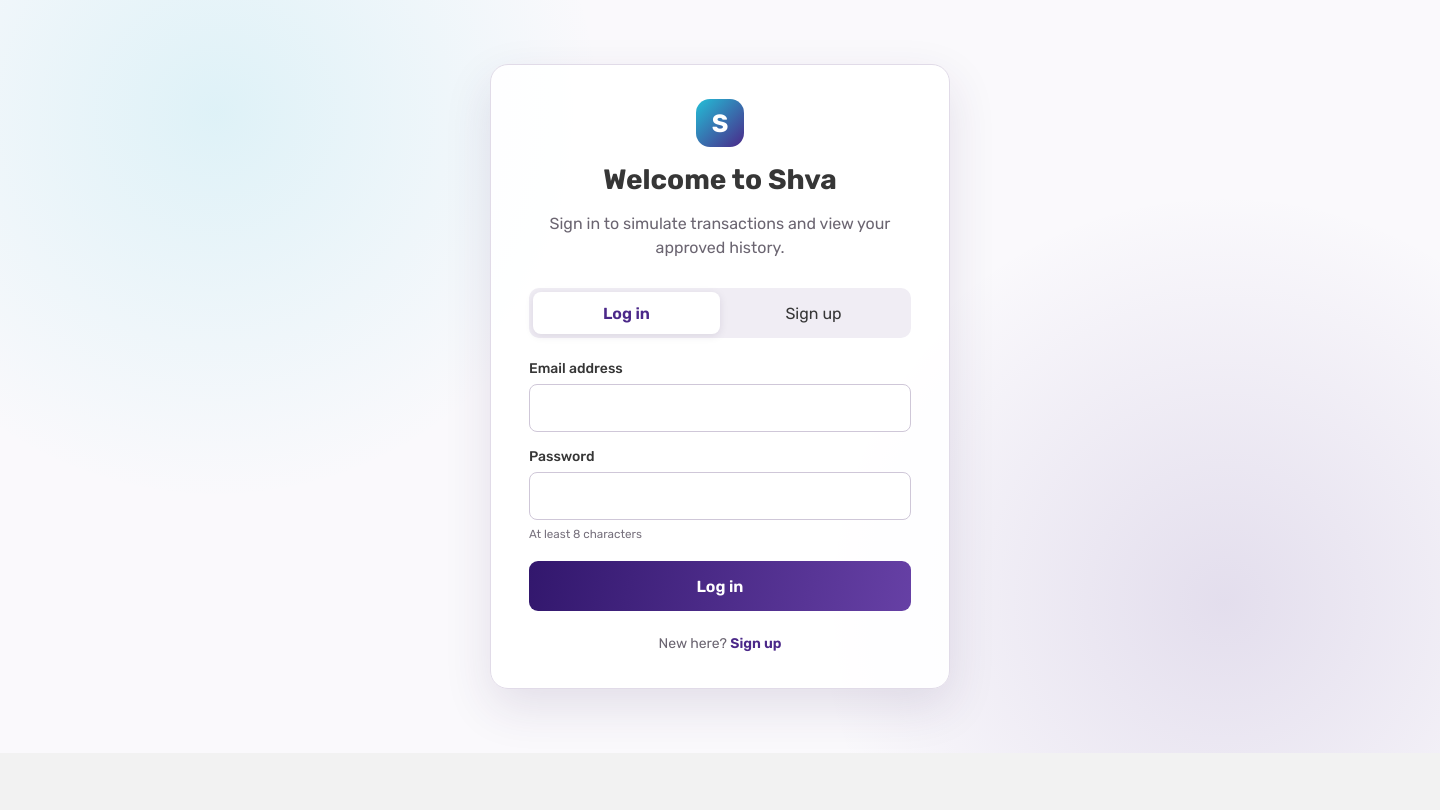
it: AuthScreen › switches between localized login and signup forms
The image size is (1440, 810).
Expected: the field labelled "Full name" is not shown
Click the tab "Sign up".
click(814, 313)  # box [720,292,907,334]
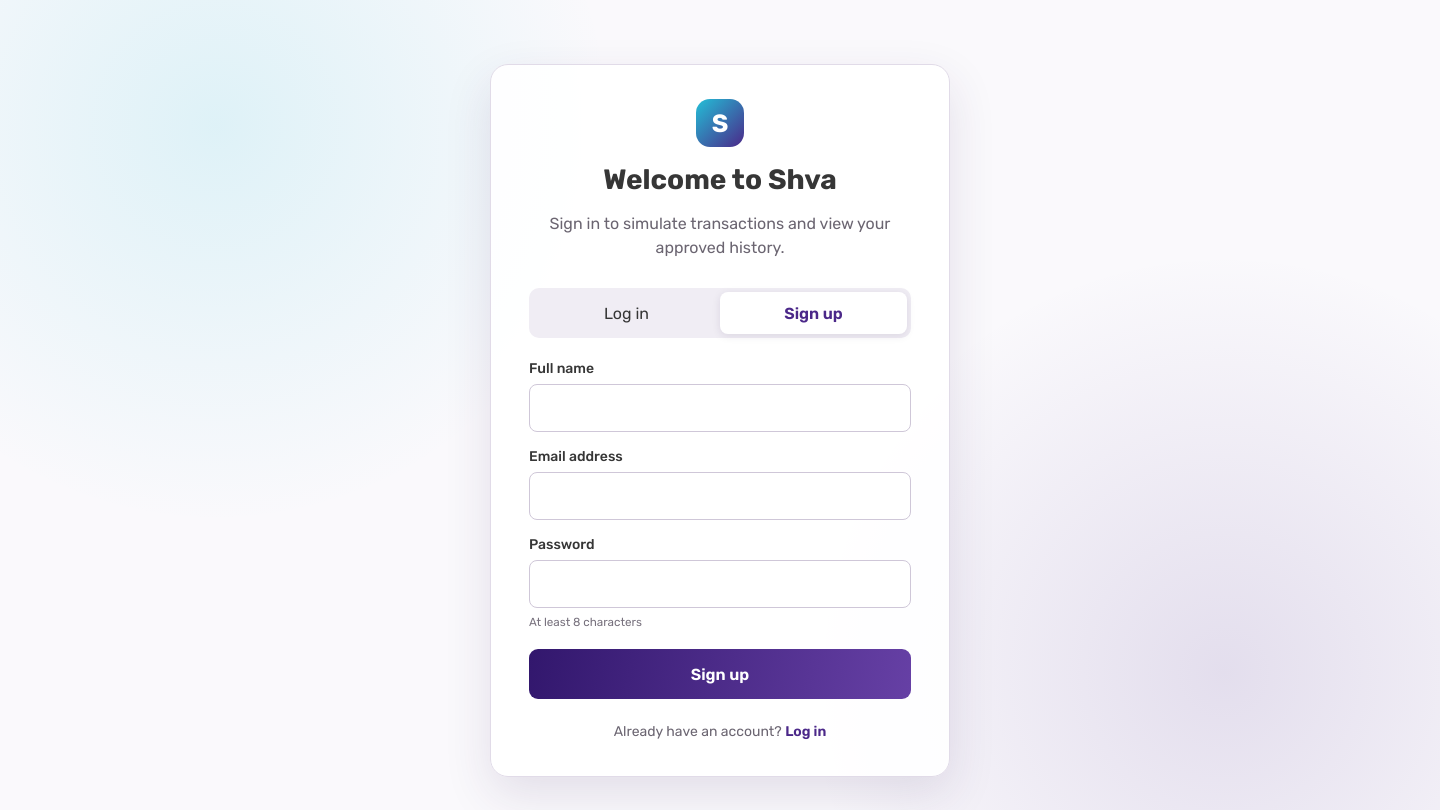
Expected: the field labelled "Full name" is shown, [529,384,911,432]
Now the button "Sign up" is shown, box [529,649,911,699]
